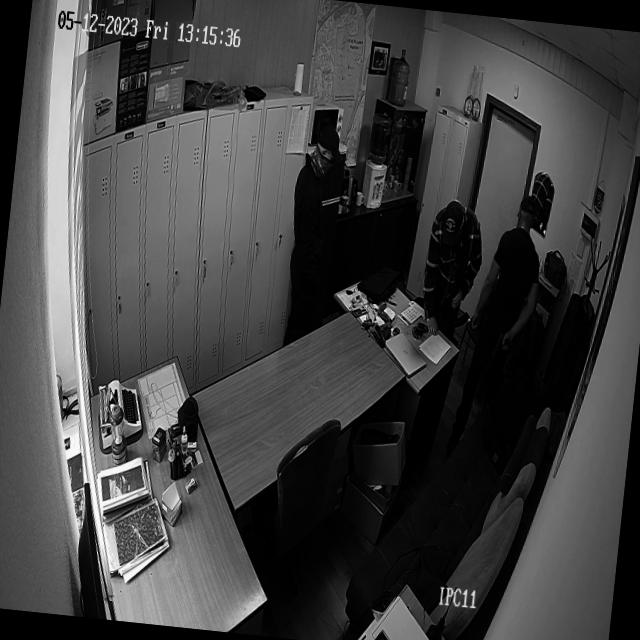gun: (442, 260, 472, 344), (485, 326, 515, 368)
person: (281, 124, 340, 350)
person with a gun: (443, 192, 549, 465), (416, 195, 485, 350)
